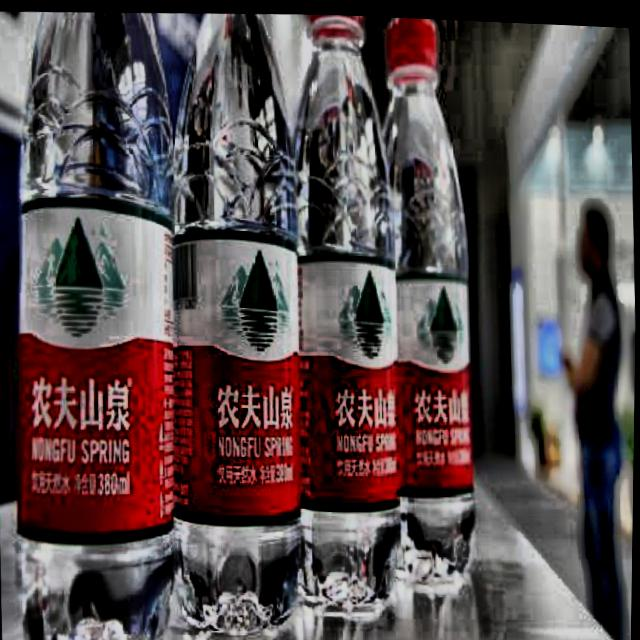Bottles: (270, 10, 420, 628), (358, 13, 499, 608)
